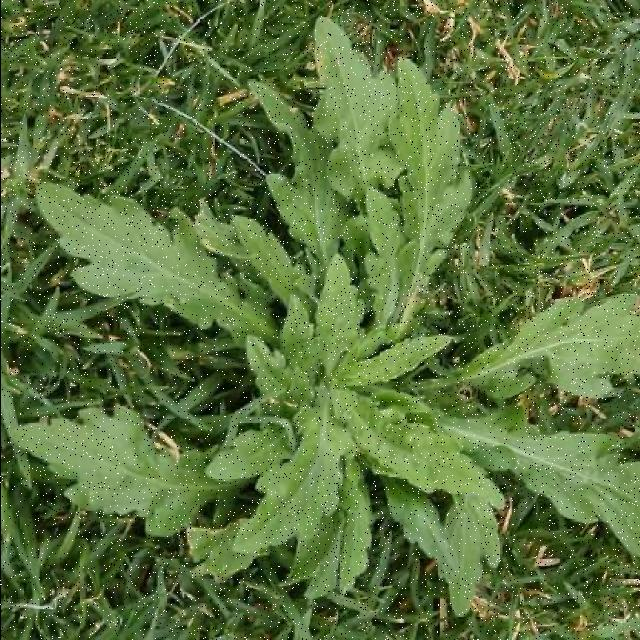weed: (12, 17, 640, 615)
